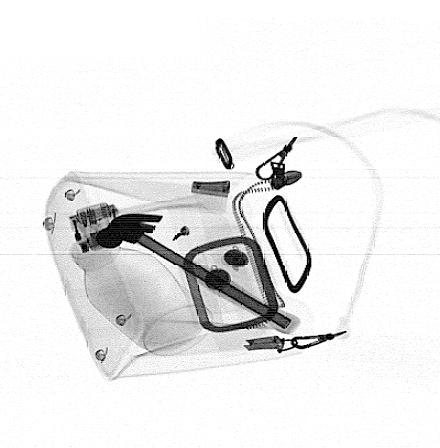Hammer: (95, 213, 303, 335)
